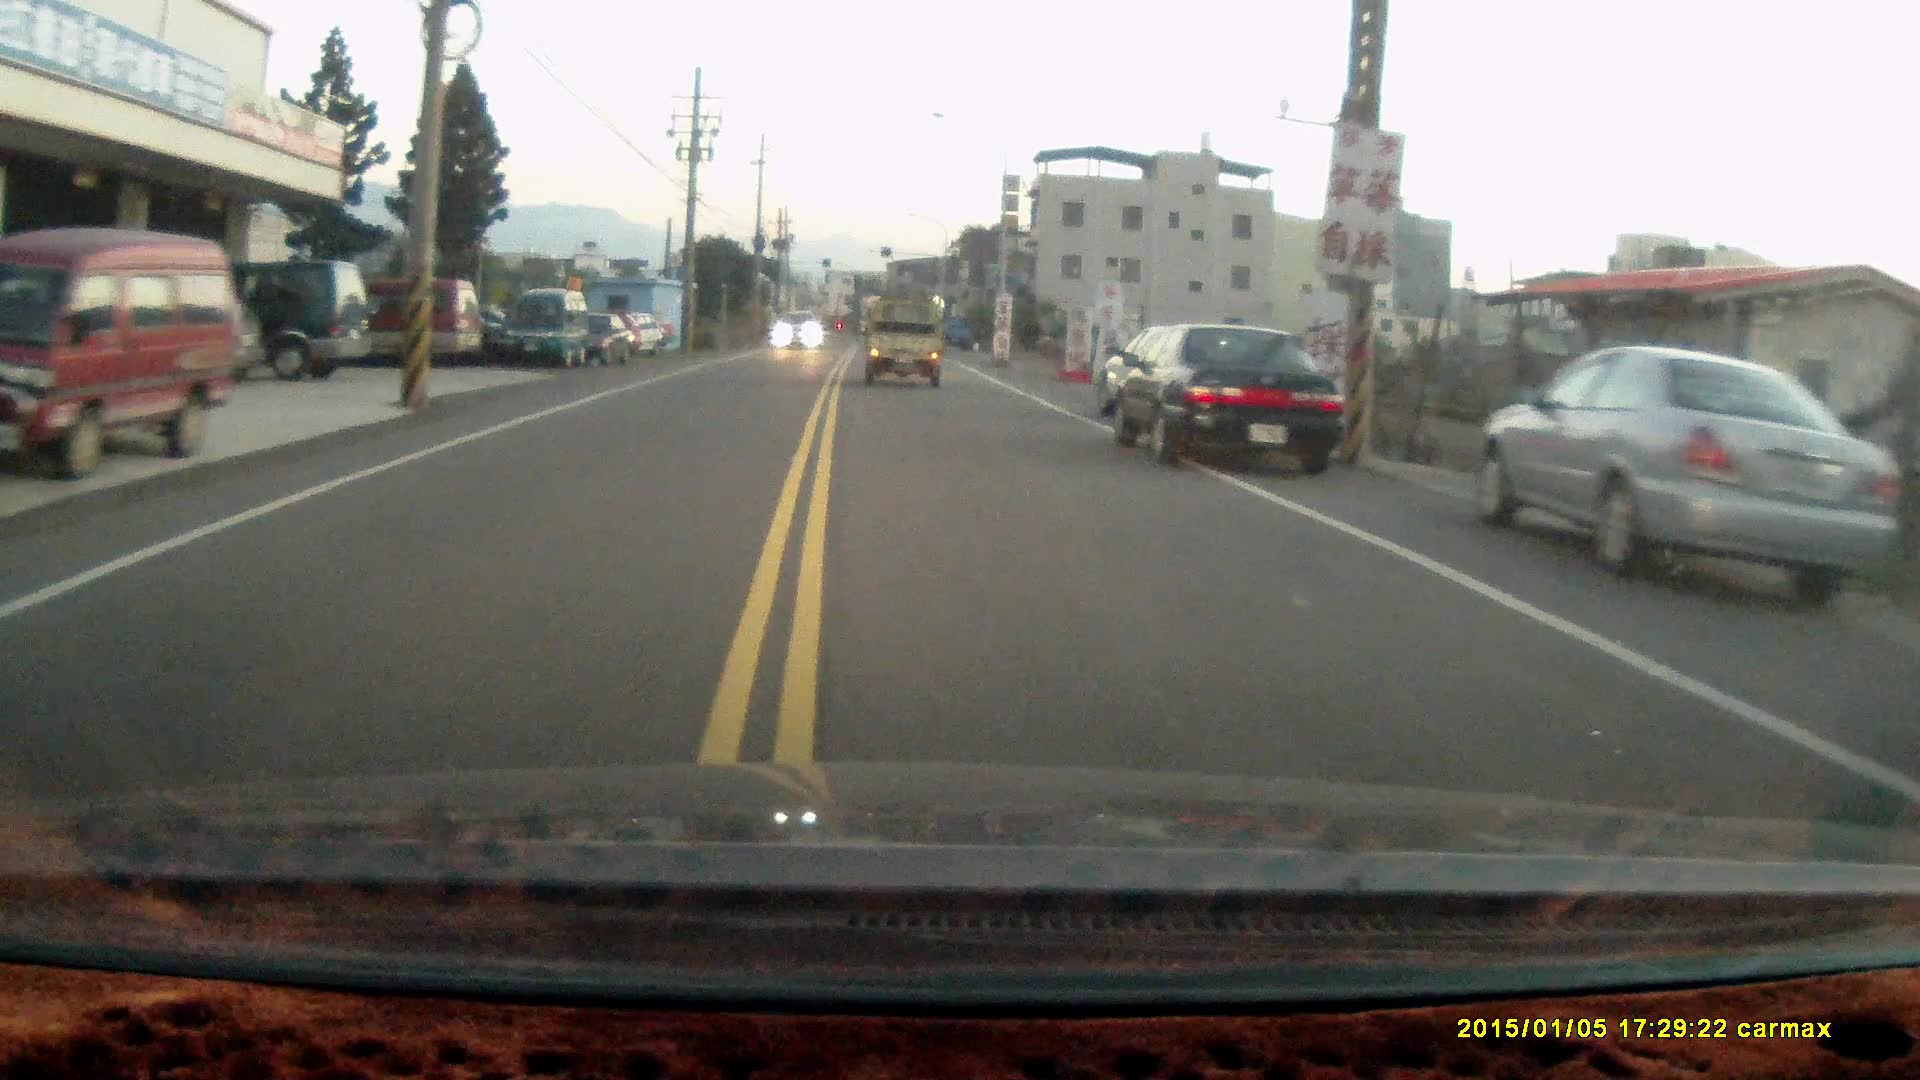vehicle: (1480, 347, 1905, 600), (3, 222, 247, 473), (1106, 318, 1349, 477), (145, 251, 376, 381), (320, 274, 489, 364), (862, 294, 949, 386), (506, 286, 597, 367), (771, 309, 824, 349)
